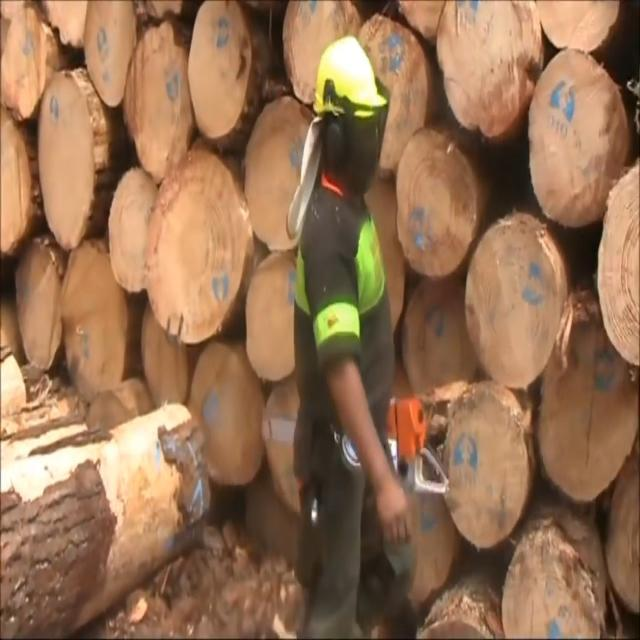Chainsaw: (246, 373, 472, 510)
